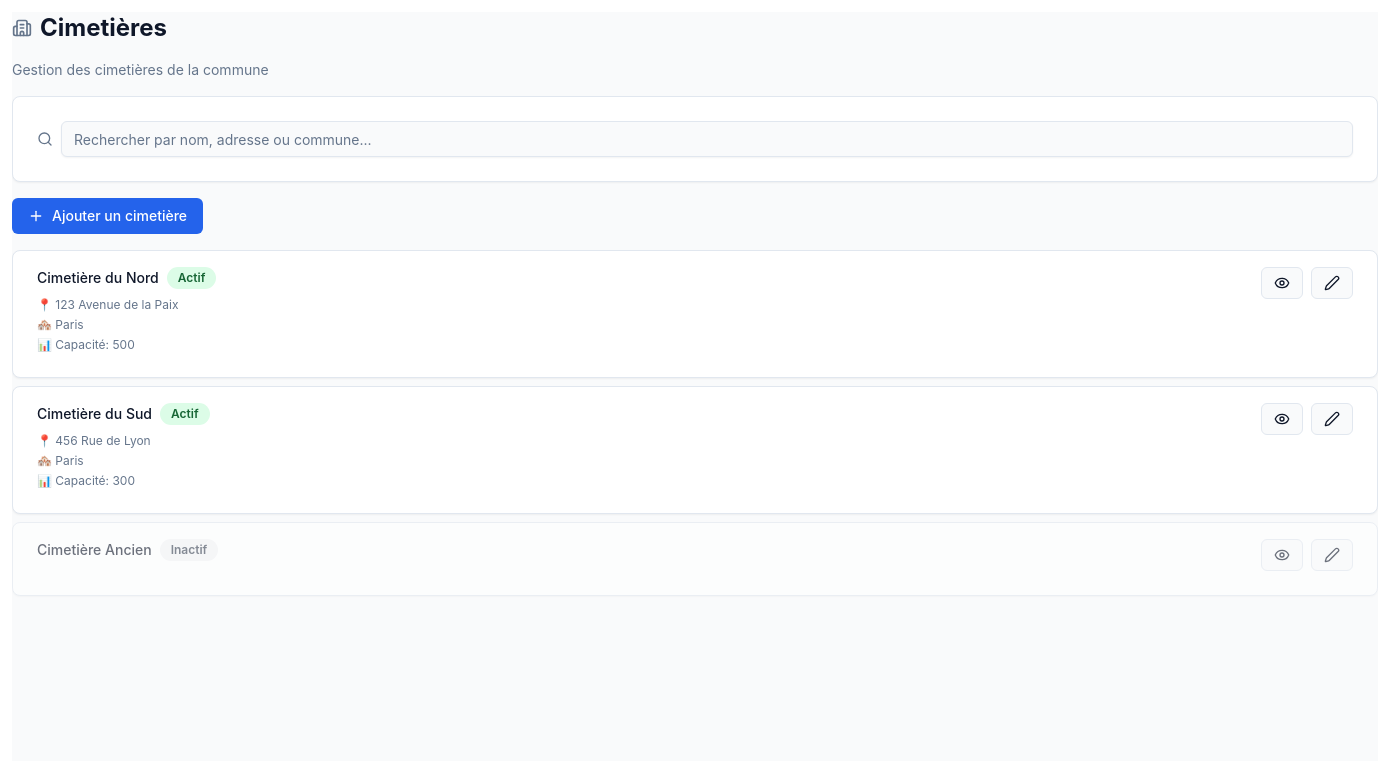
CemeteriesPage › affiche la fiche détails au clic sur œil
Expected: the text "Cimetière du Nord" is shown, [37, 268, 159, 288]
Click the button titled "Voir les détails" in the row of "Cimetière du Nord": [1282, 283] box [1261, 267, 1303, 299]
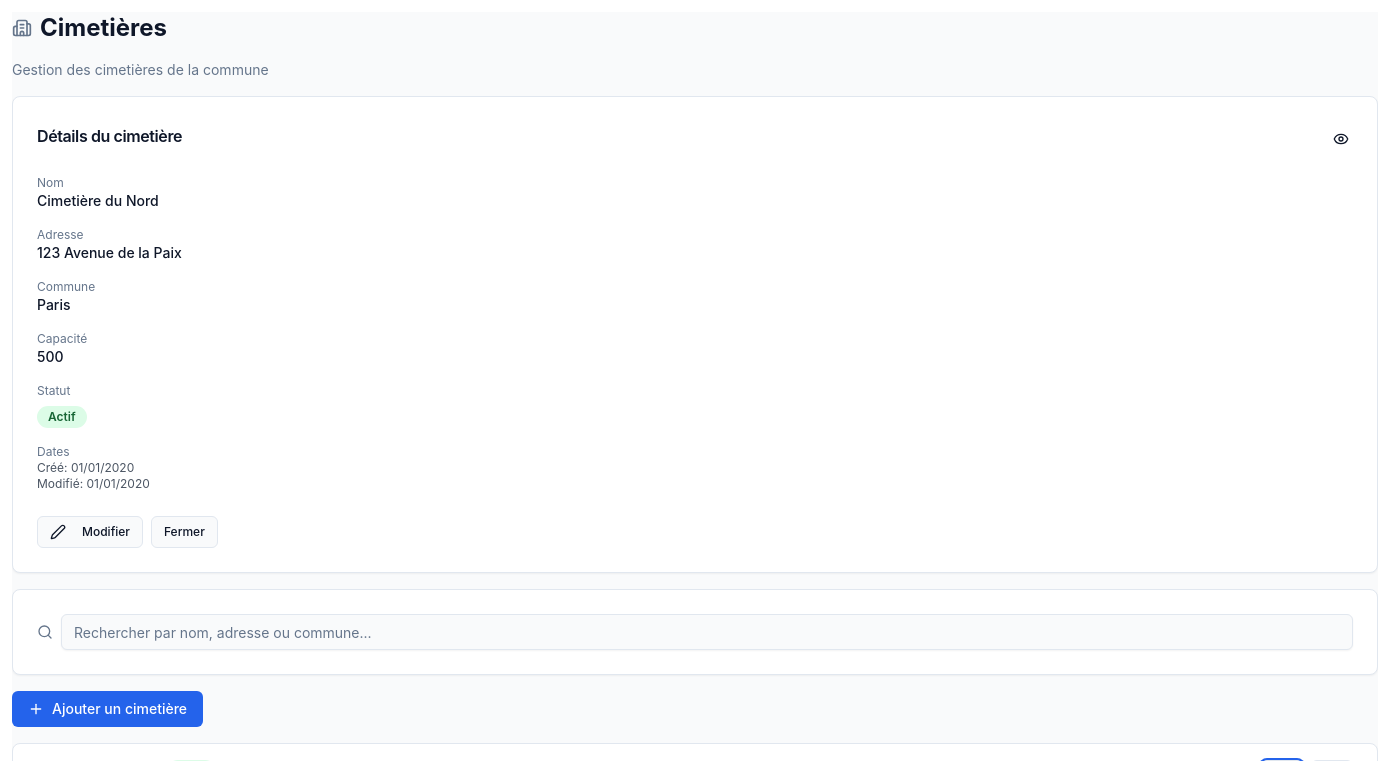
Expected: the heading "Détails du cimetière" is shown, [37, 124, 182, 148]
Expected: the text "123 Avenue de la Paix" is shown, [37, 244, 182, 261]
Expected: the text "Paris" is shown, [37, 296, 70, 313]
